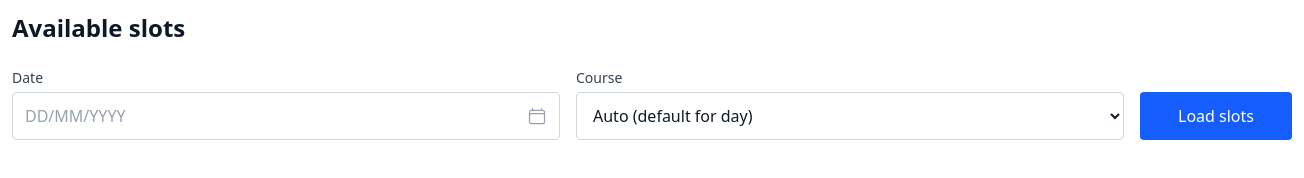
Test: SlotsPage › shows a toast when Load slots is clicked without a date
Click the button "Load slots" at {"x": 1216, "y": 116}, box [1140,92,1292,140]
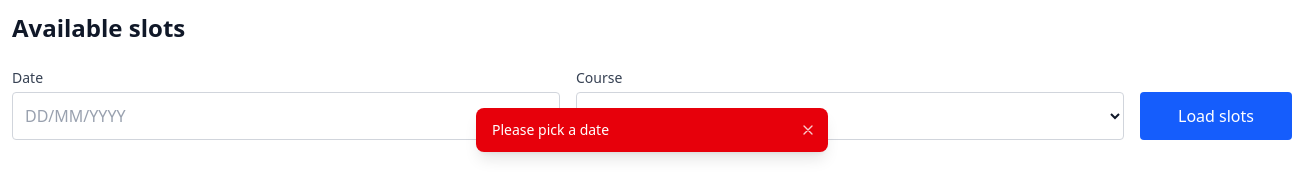
expect the text "Please pick a date" is shown: met, box [492,120,609,139]
